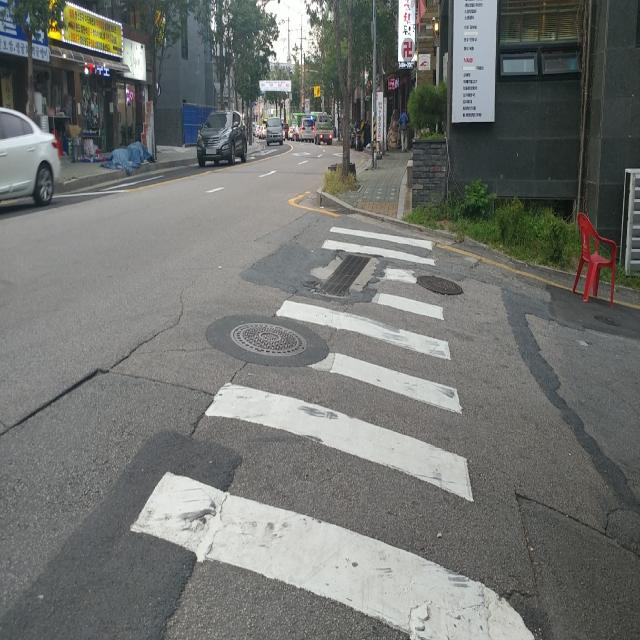횡단보도: (127, 215, 541, 640)
